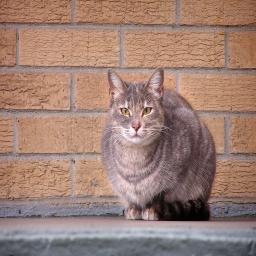catnose: (131, 122, 142, 133)
